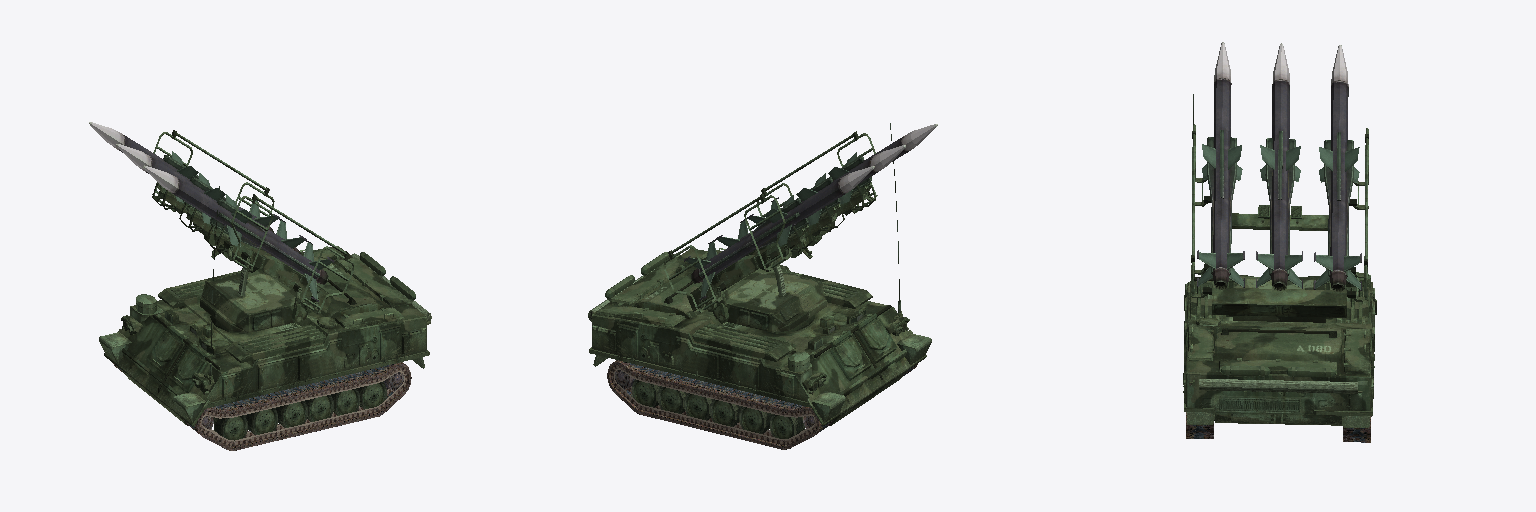
3 views of the same model, side by side, from view 1: azimuth 30°, elevation 25°; view 2: azimuth 150°, elevation 25°; view 3: azimuth 270°, elevation 25° (orthographic).
Parts seen in each view (by area): view 1: DrawCall_0191, DrawCall_0192, DrawCall_0214, DrawCall_0193, DrawCall_0190, DrawCall_0195, DrawCall_0196; view 2: DrawCall_0191, DrawCall_0192, DrawCall_0214, DrawCall_0193, DrawCall_0190, DrawCall_0195, DrawCall_0196; view 3: DrawCall_0192, DrawCall_0191, DrawCall_0193, DrawCall_0214.
Part boxes in pixels (x1,y1,x2,y2): DrawCall_0191: (99,186,431,426); DrawCall_0192: (89,122,353,313); DrawCall_0214: (113,362,411,450); DrawCall_0193: (200,269,307,333); DrawCall_0190: (214,295,386,440); DrawCall_0195: (147,325,185,375); DrawCall_0196: (169,343,207,392); DrawCall_0191: (588,123,931,425); DrawCall_0192: (664,124,937,312); DrawCall_0214: (607,360,917,449); DrawCall_0193: (713,268,826,333); DrawCall_0190: (632,291,804,438); DrawCall_0195: (830,331,870,380); DrawCall_0196: (856,313,896,363); DrawCall_0192: (1191,42,1368,317); DrawCall_0191: (1183,94,1376,427); DrawCall_0193: (1232,276,1326,322); DrawCall_0214: (1186,412,1371,442).
Size of the model in its own units: 10.23 by 10.07 by 6.08.
Materials: 2 (2 with a texture image).